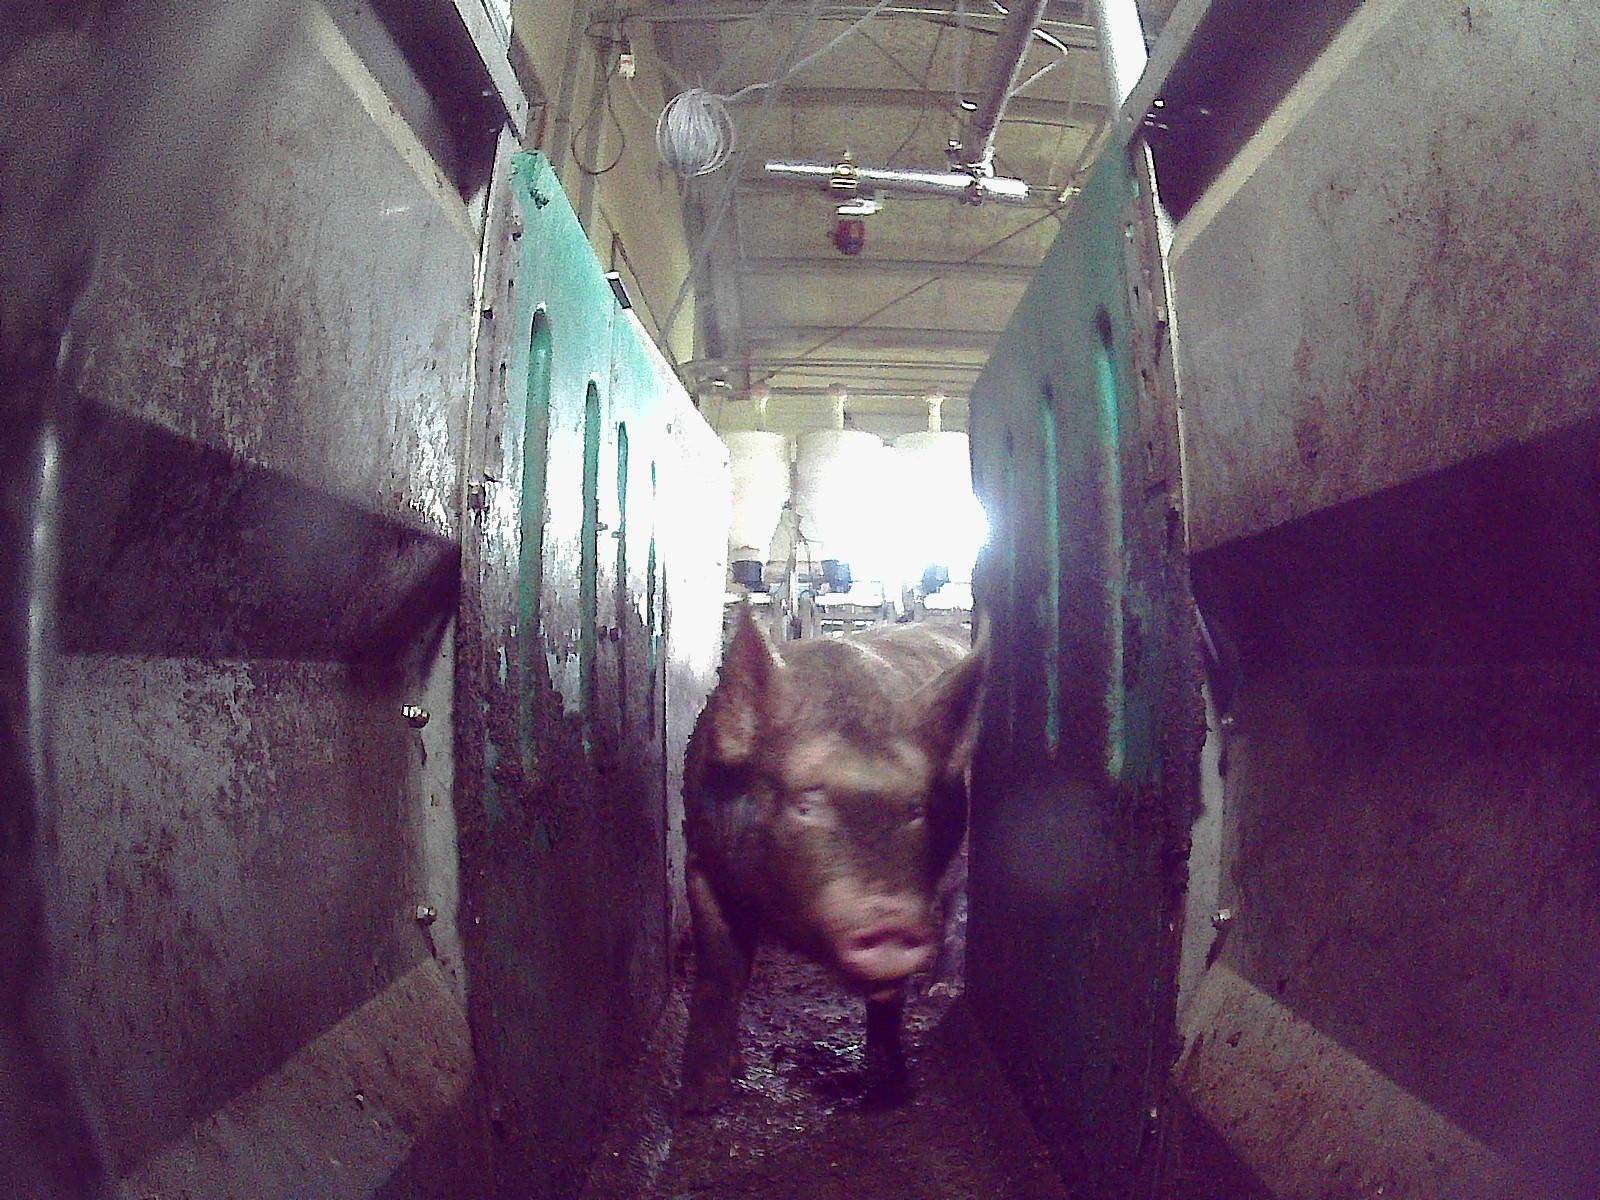Face: (720, 685, 950, 999)
